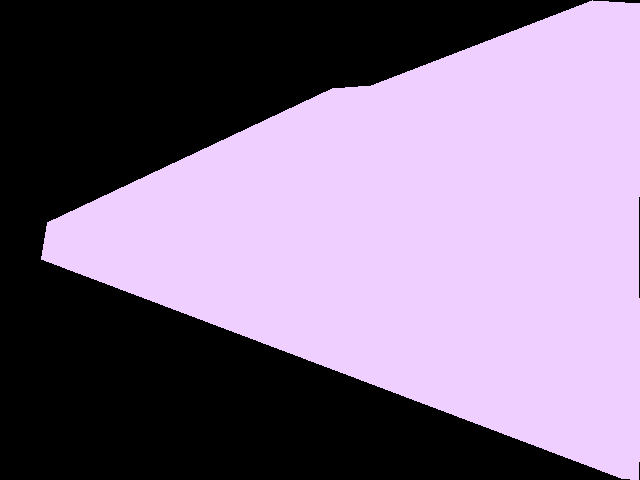Train: (41, 0, 640, 480)
